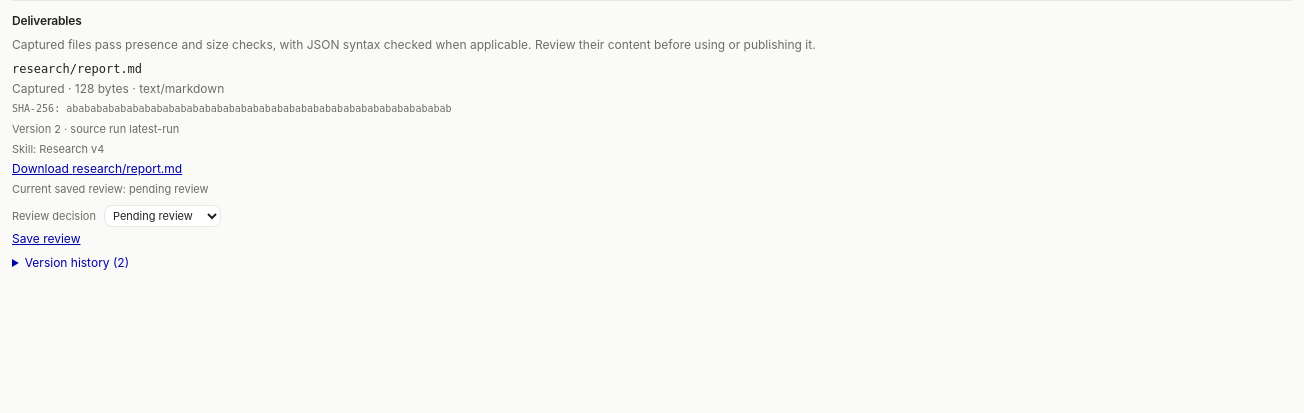
it: run deliverables › shows source provenance and prior versions, then persists an authenticated-scope revision request
Expected: the text "Version 2 · source run latest-run" is shown, 12,122 -> 179,136
Expected: the text "Skill: Research v4" is shown, 12,142 -> 104,156
Step 1. Click the heading "Version history (2)" → (77, 262), box 25,255 -> 129,270
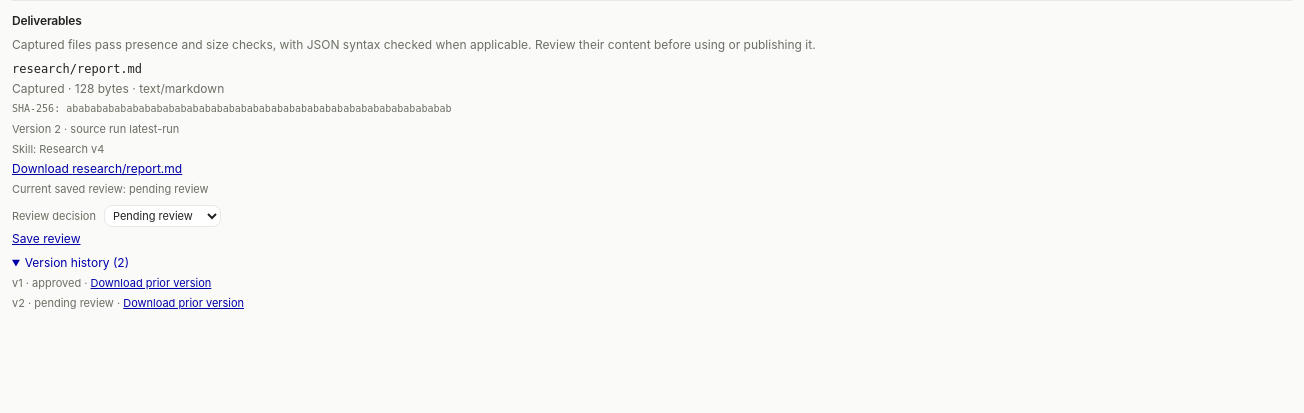
Step 2. Select "Request revision" in the dropdown named "Review decision for research/report.md" → (162, 216), box 104,205 -> 221,227
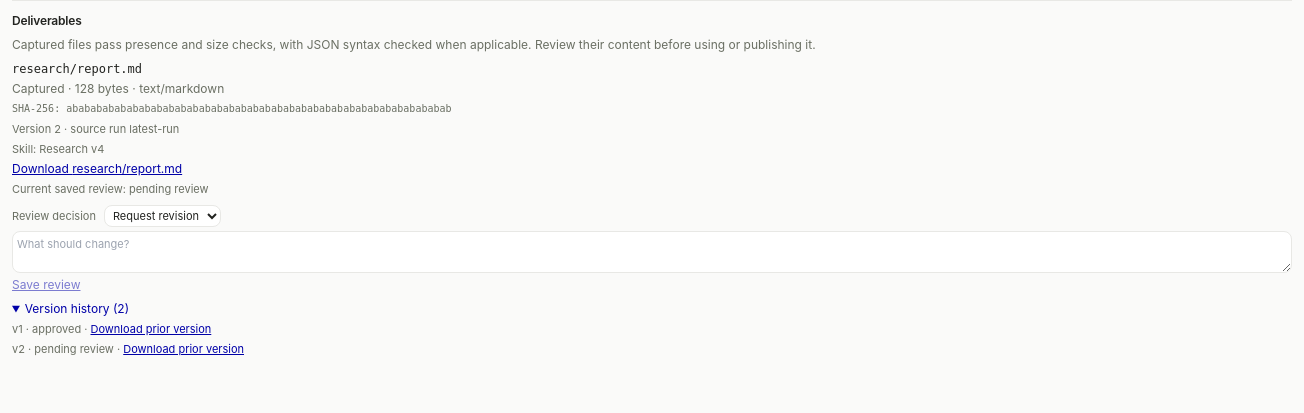
Step 3. Type "Add source citations" into the text box named "Revision note for research/report.md" → (652, 252), box 12,231 -> 1292,273
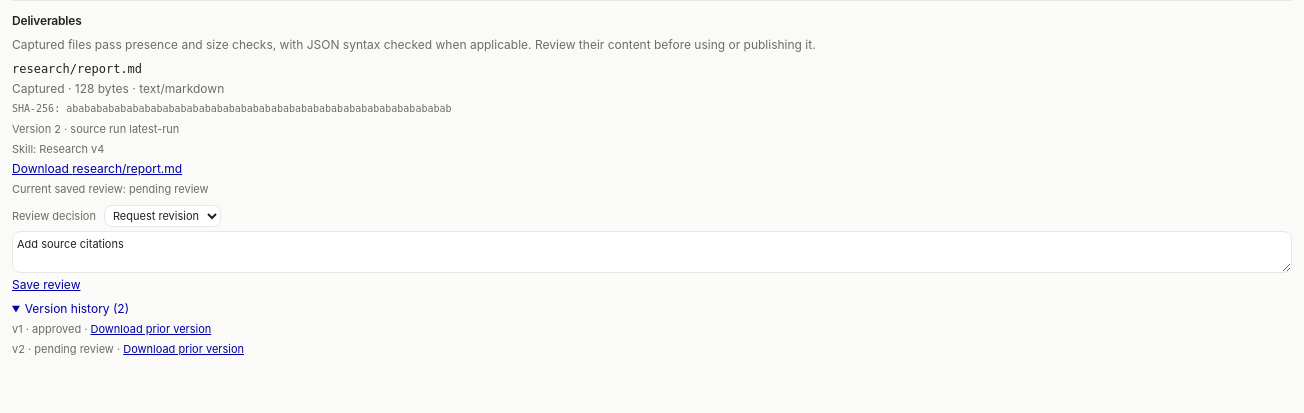
Step 4. Click the button "Save review" → (46, 285), box 12,277 -> 80,293
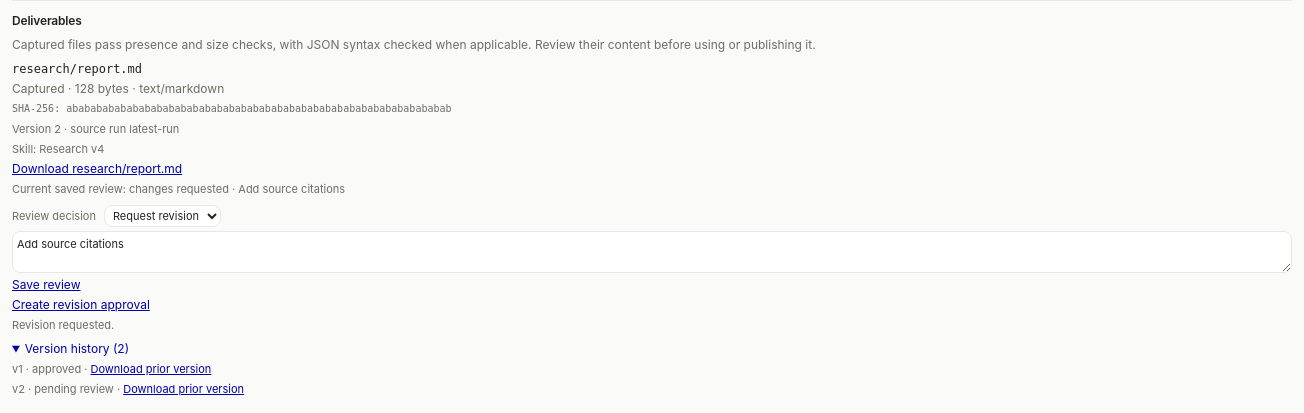
Expected: the message reads "Revision requested.", 12,318 -> 114,332
Expected: the button "Create revision approval" is shown
Step 5. Click the button "Create revision approval" → (81, 305), box 12,297 -> 150,313
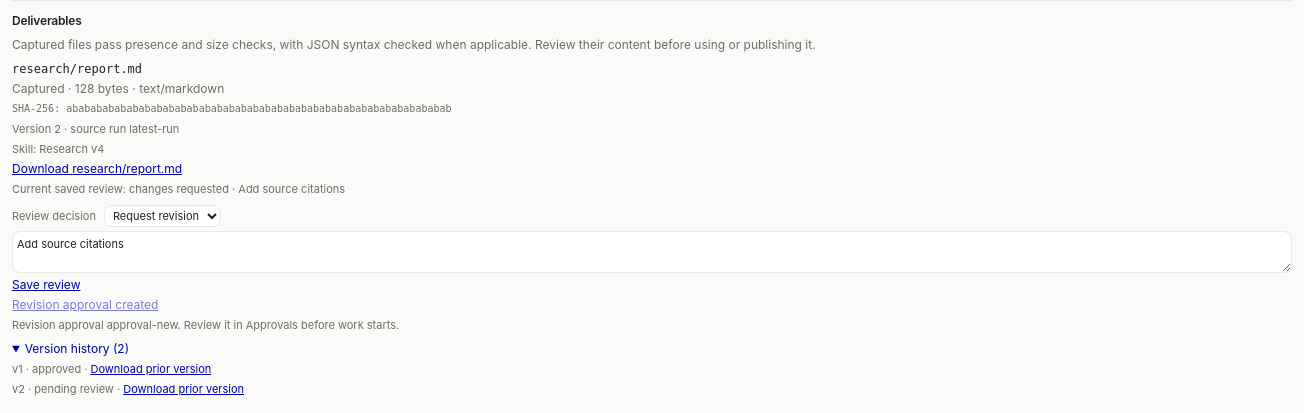
Expected: the message shows "Review it in Approvals before work starts.", 12,318 -> 399,332
Expected: the button "Revision approval created" is disabled, 12,297 -> 158,313
